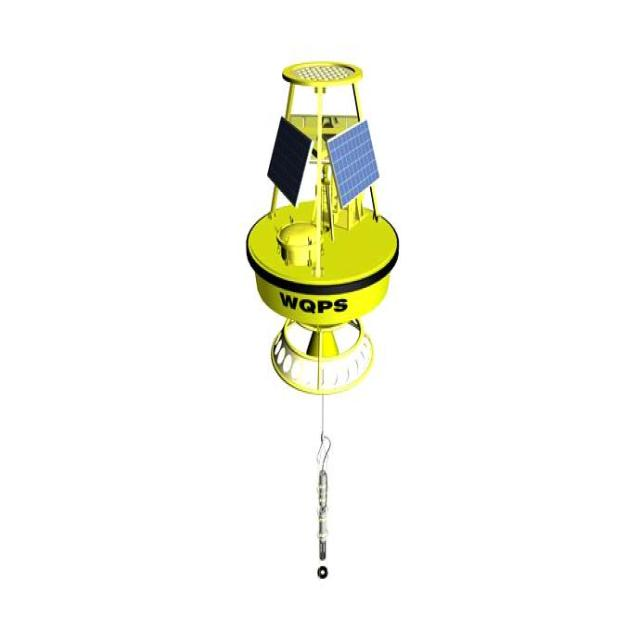2.5 sepcial mark: (250, 45, 401, 410)
